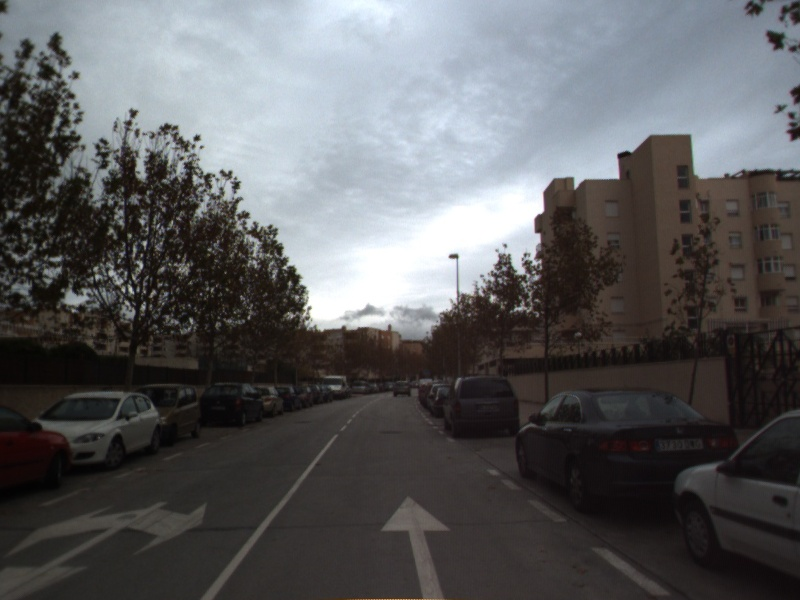STRAIGHT: (378, 491, 455, 600)
